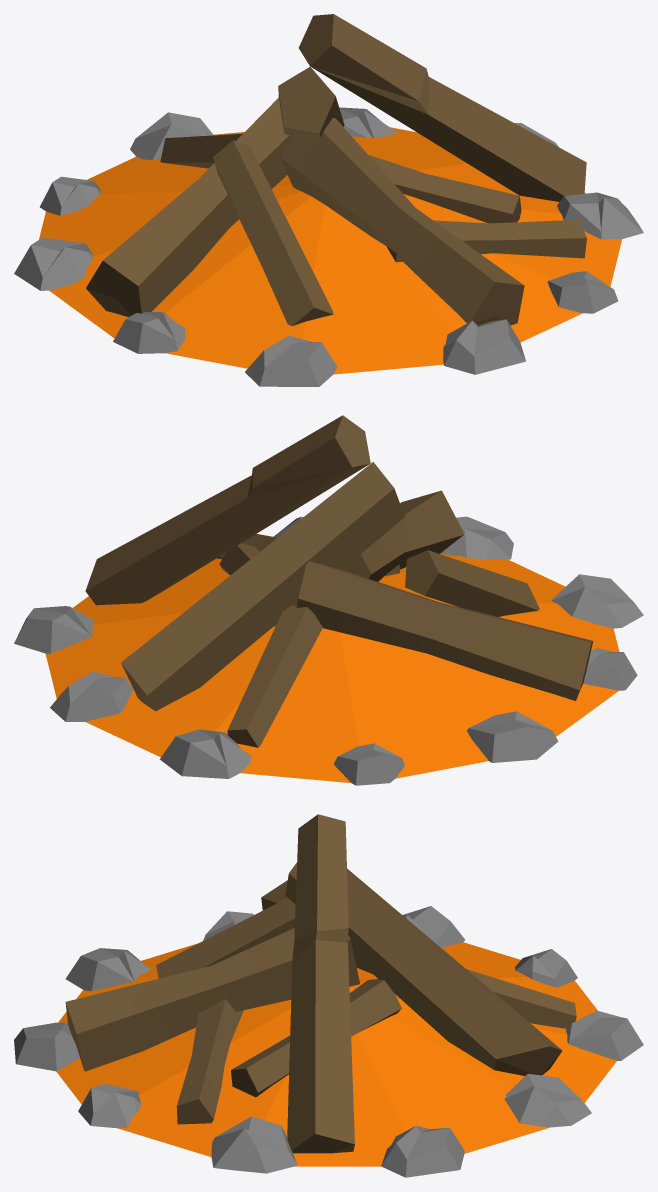
Rendered from model_polytope_camp_fire.fbx.
3 views of the same model, one above another, from view 1: azimuth 30°, elevation 25°; view 2: azimuth 150°, elevation 25°; view 3: azimuth 270°, elevation 25° (orthographic). The views are drawn at different scales.
Parts seen in each view (by area): view 1: model_polytope_camp_fire; view 2: model_polytope_camp_fire; view 3: model_polytope_camp_fire.
Part boxes in pixels (left/top/right/bottom): model_polytope_camp_fire: left=14, top=14, right=643, bottom=386; model_polytope_camp_fire: left=14, top=415, right=643, bottom=785; model_polytope_camp_fire: left=14, top=814, right=643, bottom=1177.
Bounding box in the file's own units: 130 × 58.57 × 137.
